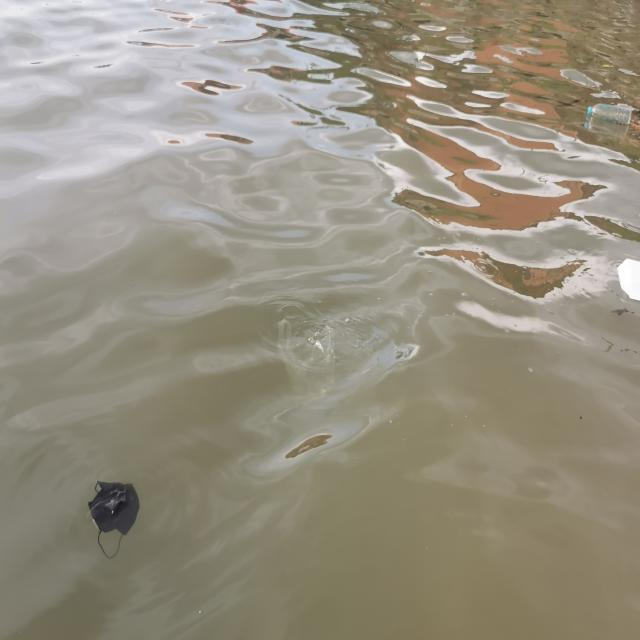foam: (613, 255, 640, 308)
plastic: (581, 98, 634, 132)
plastic bottle: (271, 302, 418, 405)
unknow: (84, 475, 142, 560)
